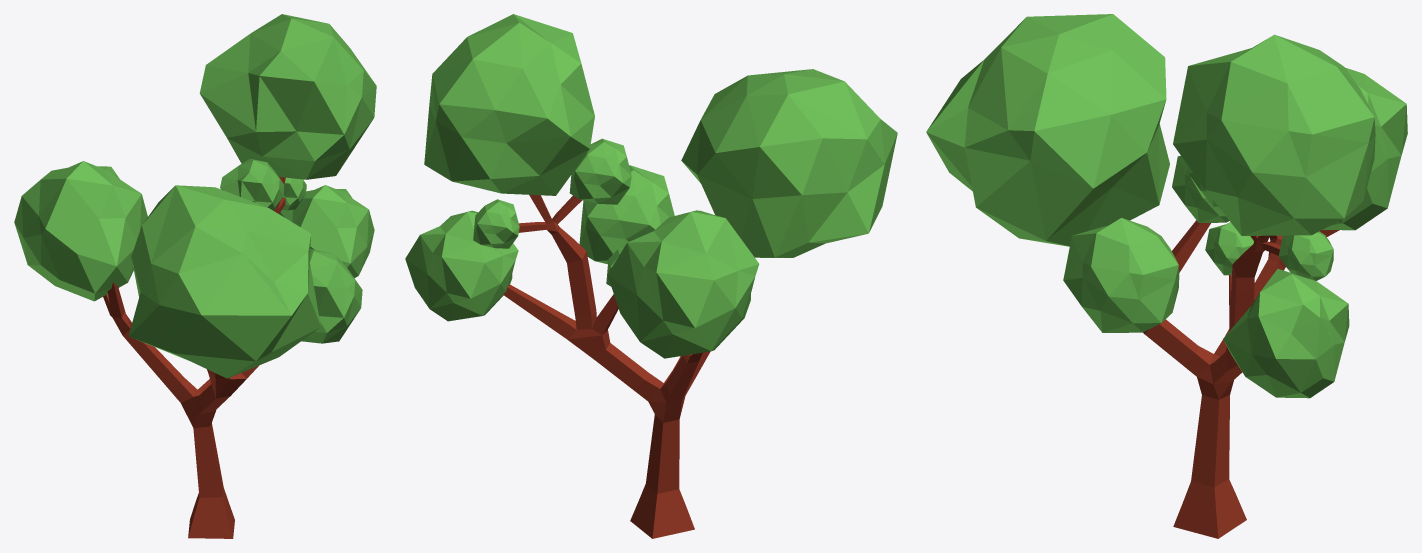
The model's file is tree2.fbx.
3 views of the same model, side by side, from view 1: azimuth 30°, elevation 25°; view 2: azimuth 150°, elevation 25°; view 3: azimuth 270°, elevation 25° (orthographic). The views are drawn at different scales.
Parts seen in each view (by area): view 1: Icosphere, Icosphere.005, Icosphere.004, Plane, Icosphere.002, Icosphere.003, Icosphere.007, Icosphere.006; view 2: Icosphere, Icosphere.005, Icosphere.004, Plane, Icosphere.002, Icosphere.003, Icosphere.007, Icosphere.006; view 3: Icosphere, Icosphere.005, Plane, Icosphere.002, Icosphere.003, Icosphere.004, Icosphere.006, Icosphere.001, Icosphere.008.
Boxes of the visible parts, x1,y1,x2,y2 form: Icosphere: (128, 185, 320, 378); Icosphere.005: (199, 14, 376, 179); Icosphere.004: (14, 161, 147, 301); Plane: (103, 177, 285, 538); Icosphere.002: (279, 185, 374, 277); Icosphere.003: (301, 249, 362, 343); Icosphere.007: (220, 159, 284, 210); Icosphere.006: (282, 177, 306, 210); Icosphere: (681, 69, 897, 257); Icosphere.005: (424, 14, 594, 195); Icosphere.004: (607, 210, 759, 358); Plane: (503, 194, 710, 538); Icosphere.002: (405, 210, 518, 321); Icosphere.003: (579, 165, 674, 264); Icosphere.007: (569, 138, 631, 204); Icosphere.006: (473, 199, 519, 248); Icosphere: (926, 14, 1169, 246); Icosphere.005: (1173, 34, 1375, 235); Plane: (1143, 220, 1339, 538); Icosphere.002: (1223, 268, 1349, 398); Icosphere.003: (1063, 218, 1179, 332); Icosphere.004: (1322, 68, 1407, 230); Icosphere.006: (1278, 231, 1333, 280); Icosphere.001: (1172, 155, 1229, 222); Icosphere.008: (1205, 222, 1253, 275).
Size of the model in its own units: 906 by 1202 by 953.
